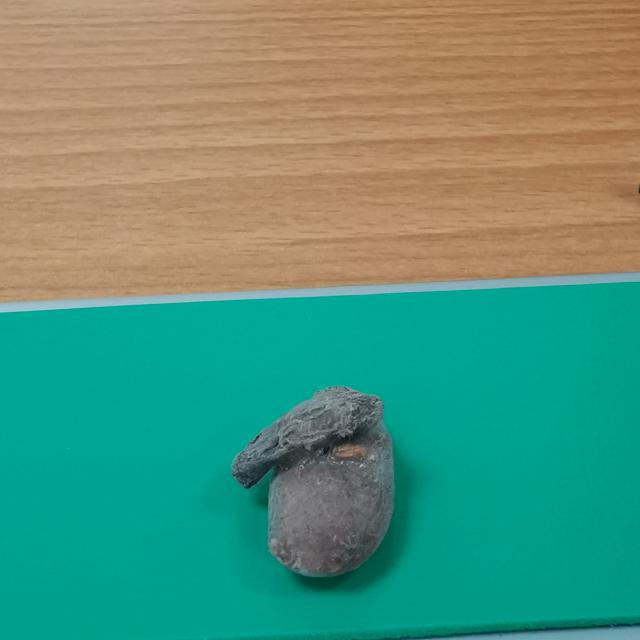Agglomerated_cocoabeans: (158, 357, 501, 622)
